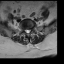CCS_normal: (26, 27, 28, 34)
LFS_severe_stenosis: (30, 27, 32, 31)
LLS_normal: (28, 28, 30, 33)
RFS_stenosis: (23, 27, 25, 32)
RLS_normal: (25, 27, 26, 33)
